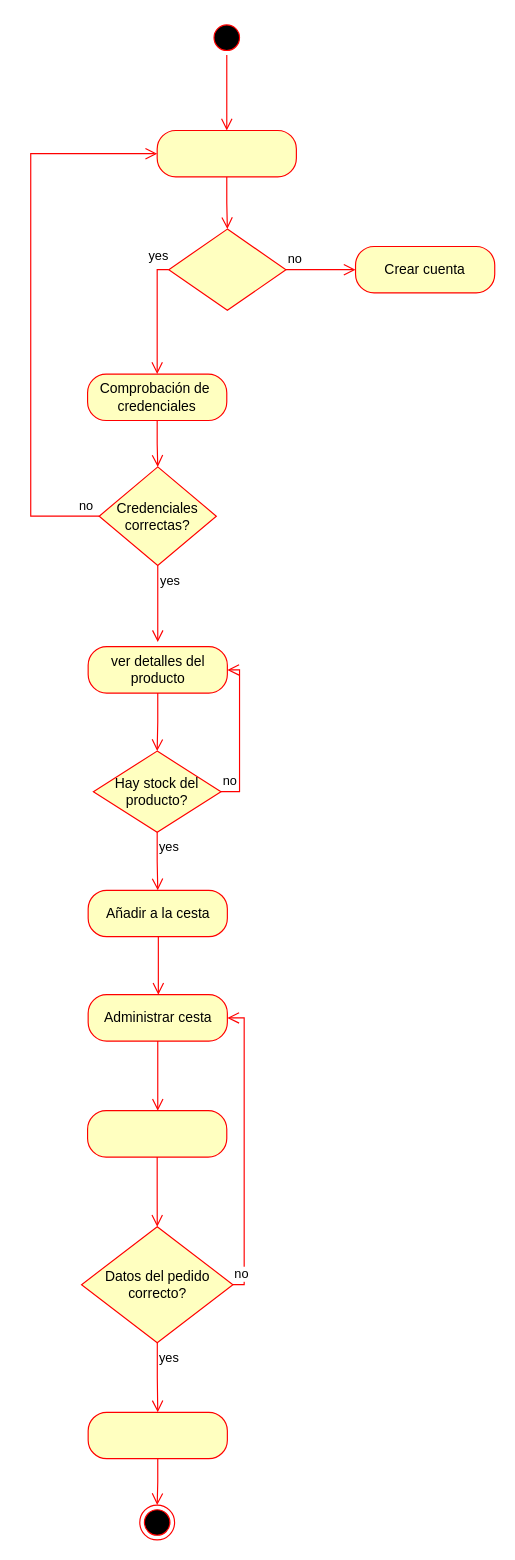
The diagram is 515 pixels wide and 1560 high, and some of its shapes have lost their labels. The centre of each missing label's shape, as x and y in pixels:
"Compra finalizada" goes at pixel 157 1435.
"Existe la cuenta?" goes at pixel 227 269.
"Inicio sesión" goes at pixel 226 153.
"Realizar compra" goes at pixel 156 1133.
